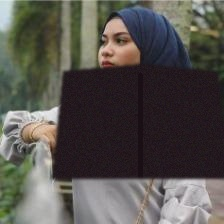Cadar_Niqab: (52, 8, 224, 178)
